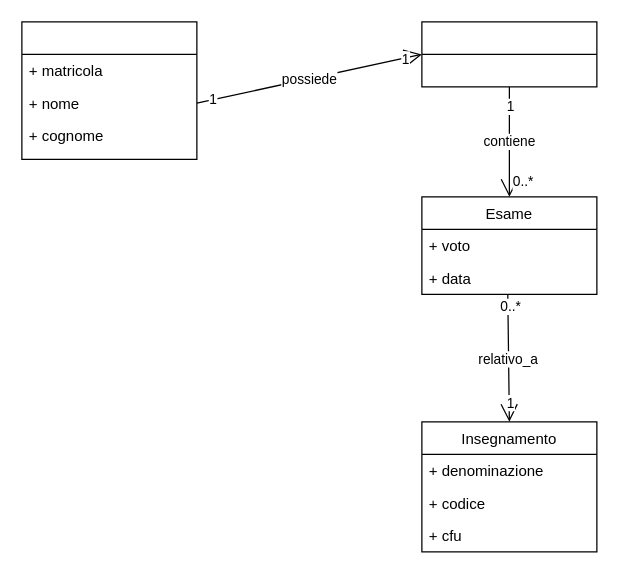
The diagram is 619 pixels wide and 578 high, and some of its shapes have lost their labels. Here are the shapes that lost their labels. From the top down, the box of each, then its label:
(421, 21, 597, 87): Libretto
(21, 21, 197, 159): Studente
